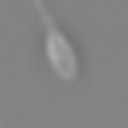normal: (30, 1, 58, 33)
